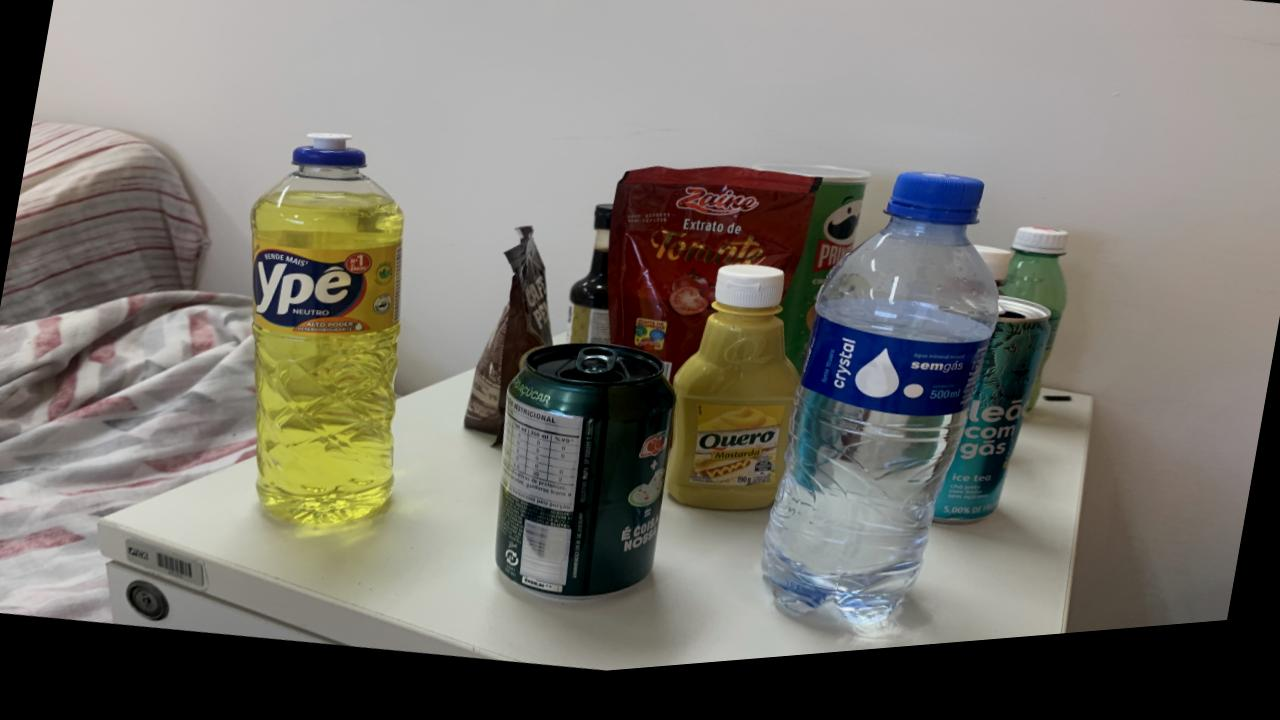Coffee-Pantry_Items: (463, 235, 552, 453)
Detergent-Cleanup_Items: (249, 139, 403, 530)
English_Sauce-Pantry_Items: (569, 214, 613, 354)
Guarana-Drinks: (1001, 244, 1068, 427)
Guarana_Can-Drinks: (494, 353, 675, 608)
Mustard-Pantry_Items: (665, 276, 798, 523)
Pringles-Snacks: (779, 179, 871, 384)
Tea-Drinks: (932, 312, 1050, 540)
Tomato_Sauce-Pantry_Items: (606, 178, 822, 385), (463, 235, 552, 452)
Water_Bottle-Drinks: (761, 188, 999, 640)
